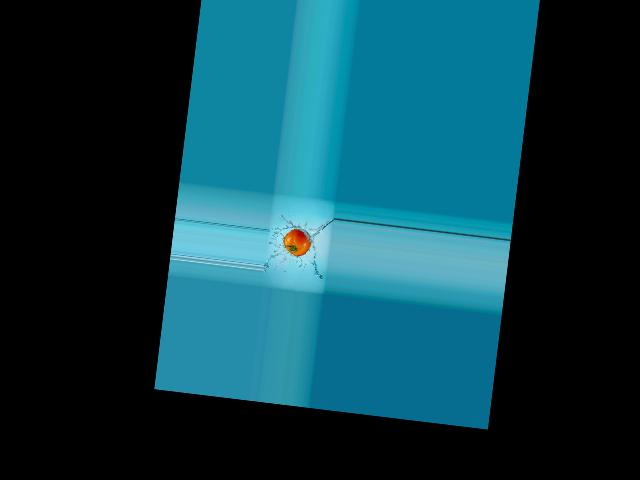tomato: (281, 227, 312, 257)
